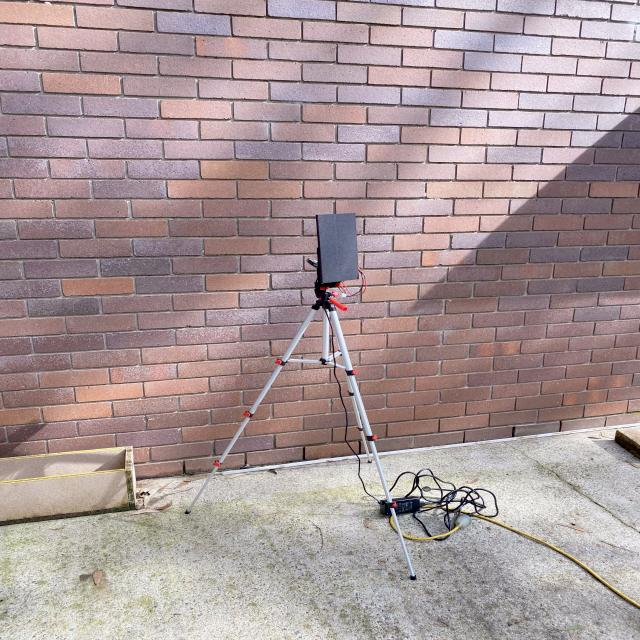matrix: (311, 206, 365, 289)
